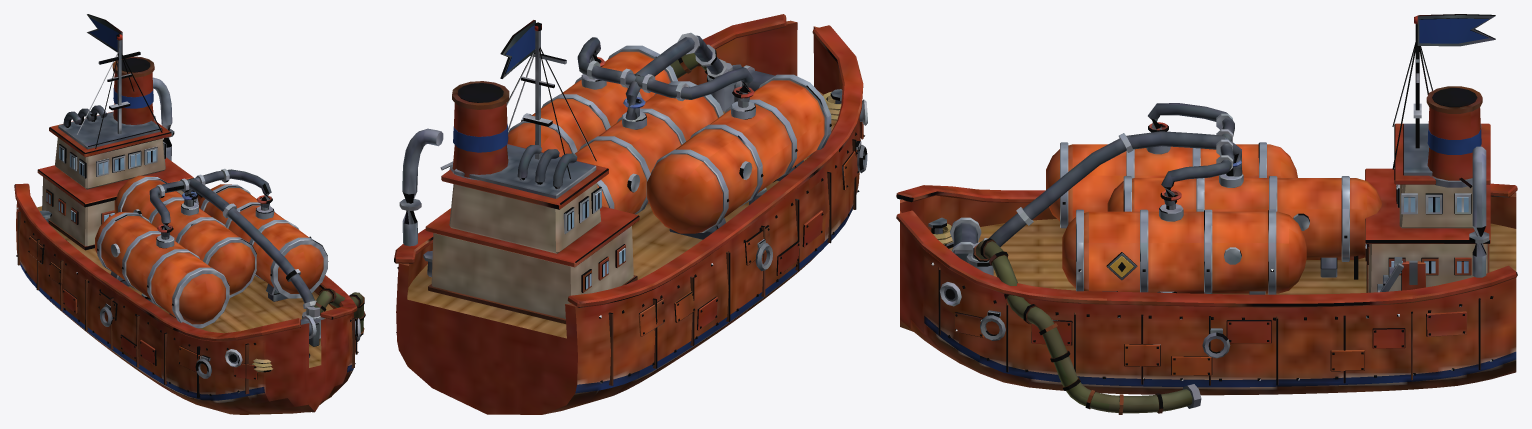
Rendered from tanker.glb.
The picture shows the model from 3 angles, left to right: view 1: azimuth 30°, elevation 25°; view 2: azimuth 150°, elevation 25°; view 3: azimuth 270°, elevation 25°; orthographic projection. The views are drawn at different scales.
Visible parts, largest first — view 1: Hull, Hose, Flag; view 2: Hull, Flag, Hose; view 3: Hull, Hose, Flag.
Boxes of the visible parts, x1=… form: Hull: x1=14, y1=34, x2=360, y2=414; Hose: x1=306, y1=288, x2=365, y2=336; Flag: x1=87, y1=14, x2=122, y2=53; Hull: x1=394, y1=14, x2=867, y2=414; Flag: x1=500, y1=20, x2=535, y2=78; Hose: x1=670, y1=53, x2=732, y2=78; Hull: x1=896, y1=16, x2=1517, y2=395; Hose: x1=973, y1=238, x2=1201, y2=414; Flag: x1=1417, y1=14, x2=1495, y2=46.
Size of the model in its own units: 3.93 by 4.83 by 7.56.
2 materials, 2 textured.
